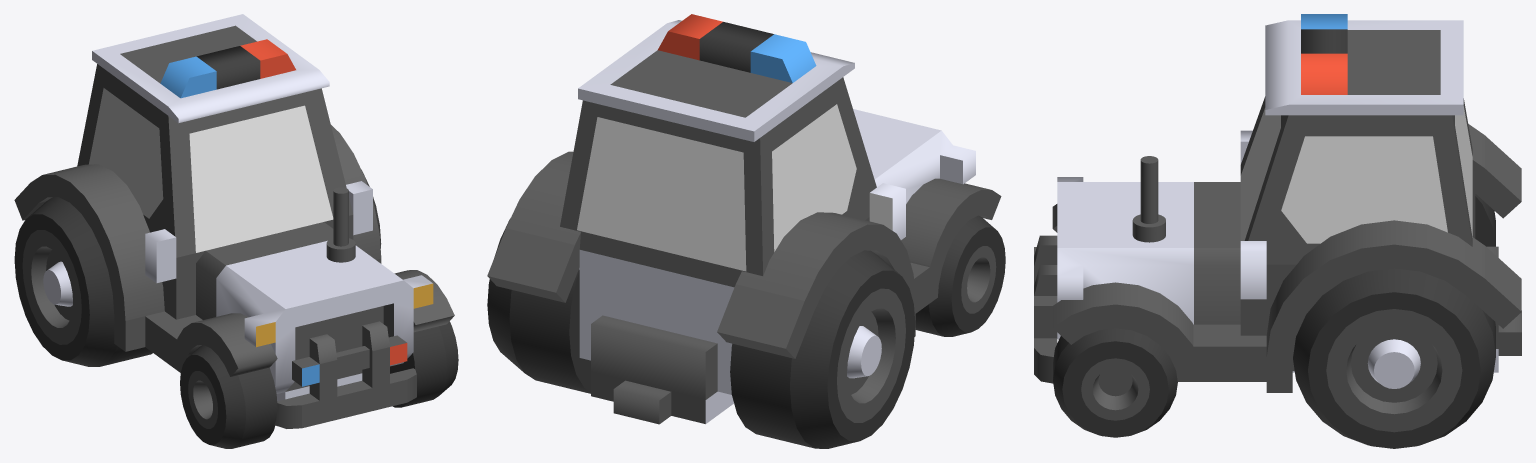
Rendered from tractorPolice.obj.
3 views of the same model, side by side, from view 1: azimuth 30°, elevation 25°; view 2: azimuth 150°, elevation 25°; view 3: azimuth 270°, elevation 25° (orthographic). The views are drawn at different scales.
Visible parts, largest first — view 1: body, skirts, wheel_backRight, grill, wheel_frontRight, wheel_frontLeft; view 2: body, skirts, wheel_backRight, wheel_backLeft, wheel_frontRight; view 3: body, skirts, wheel_backLeft, wheel_frontLeft, grill, wheel_backRight.
Part boxes in pixels (bbox=[...]): body: bbox=[77, 14, 433, 401]; skirts: bbox=[14, 125, 454, 376]; wheel_backRight: bbox=[14, 197, 152, 366]; grill: bbox=[274, 321, 416, 428]; wheel_frontRight: bbox=[180, 345, 277, 448]; wheel_frontLeft: bbox=[390, 321, 458, 407]; body: bbox=[560, 14, 975, 424]; skirts: bbox=[487, 151, 1001, 358]; wheel_backRight: bbox=[730, 250, 915, 448]; wheel_backLeft: bbox=[487, 218, 590, 393]; wheel_frontRight: bbox=[915, 215, 1005, 336]; body: bbox=[1057, 14, 1521, 372]; skirts: bbox=[1052, 124, 1521, 392]; wheel_backLeft: bbox=[1293, 268, 1495, 448]; wheel_frontLeft: bbox=[1053, 328, 1177, 437]; grill: bbox=[1034, 235, 1057, 383]; wheel_backRight: bbox=[1475, 194, 1495, 246].
Size of the model in its own units: 1.66 by 1.61 by 2.1.
